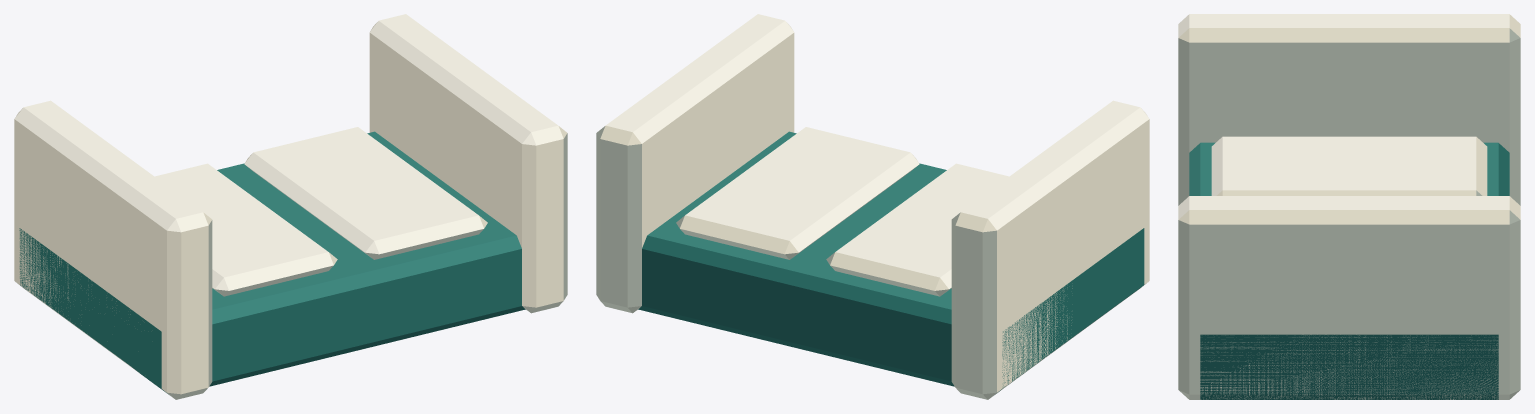
File: Plate_LatchPressed.gltf
The picture shows the model from 3 angles, left to right: view 1: azimuth 30°, elevation 25°; view 2: azimuth 150°, elevation 25°; view 3: azimuth 270°, elevation 25°; orthographic projection. The views are drawn at different scales.
Visible parts, largest first — view 1: Plate_LatchPressed_baked; view 2: Plate_LatchPressed_baked; view 3: Plate_LatchPressed_baked.
Boxes of the visible parts, x1,y1,x2,y2 form: Plate_LatchPressed_baked: (14,14,567,399); Plate_LatchPressed_baked: (596,14,1149,399); Plate_LatchPressed_baked: (1178,14,1520,399).
Bounding box in the file's own units: 0.88 × 0.38 × 0.62.
